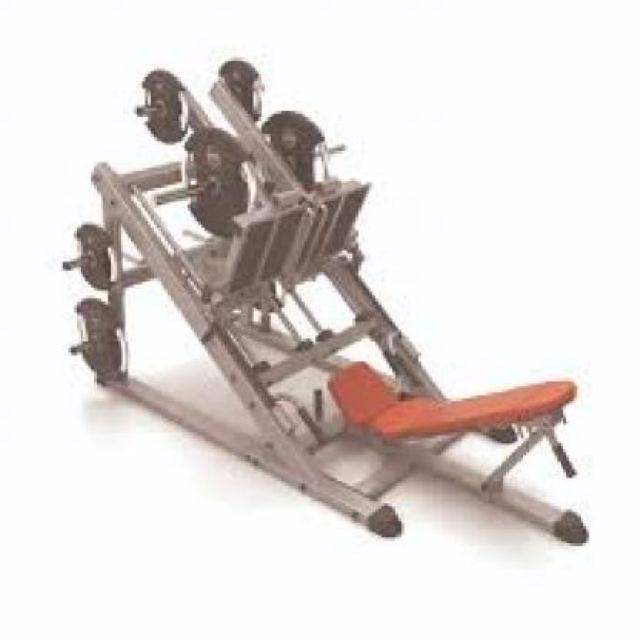leg press: (32, 48, 598, 570)
